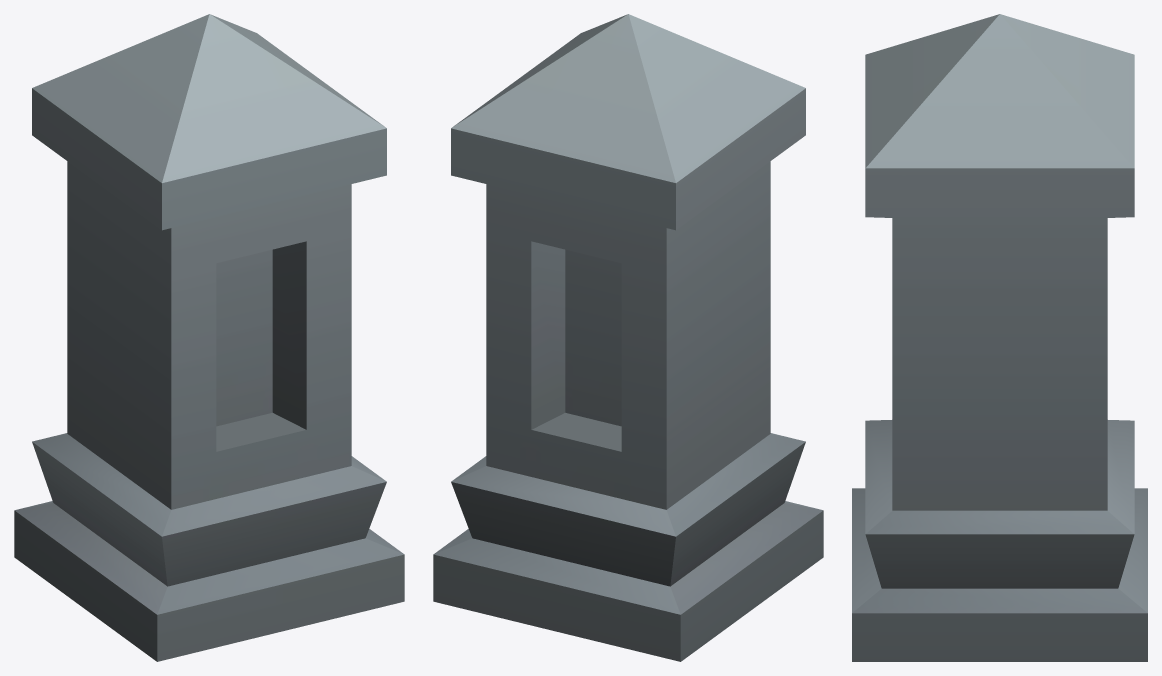
Rendered from shrine.glb.
3 views of the same model, side by side, from view 1: azimuth 30°, elevation 25°; view 2: azimuth 150°, elevation 25°; view 3: azimuth 270°, elevation 25° (orthographic). The views are drawn at different scales.
Visible parts, largest first — view 1: shrine; view 2: shrine; view 3: shrine.
Part boxes in pixels (x1,y1,x2,y2): shrine: (14, 14, 404, 661); shrine: (433, 14, 823, 661); shrine: (852, 14, 1147, 661).
Size of the model in its own units: 1.1 by 2.4 by 1.1.
1 material, 1 textured.
